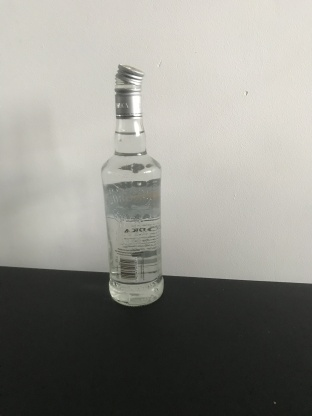nakretka: (113, 62, 145, 119)
